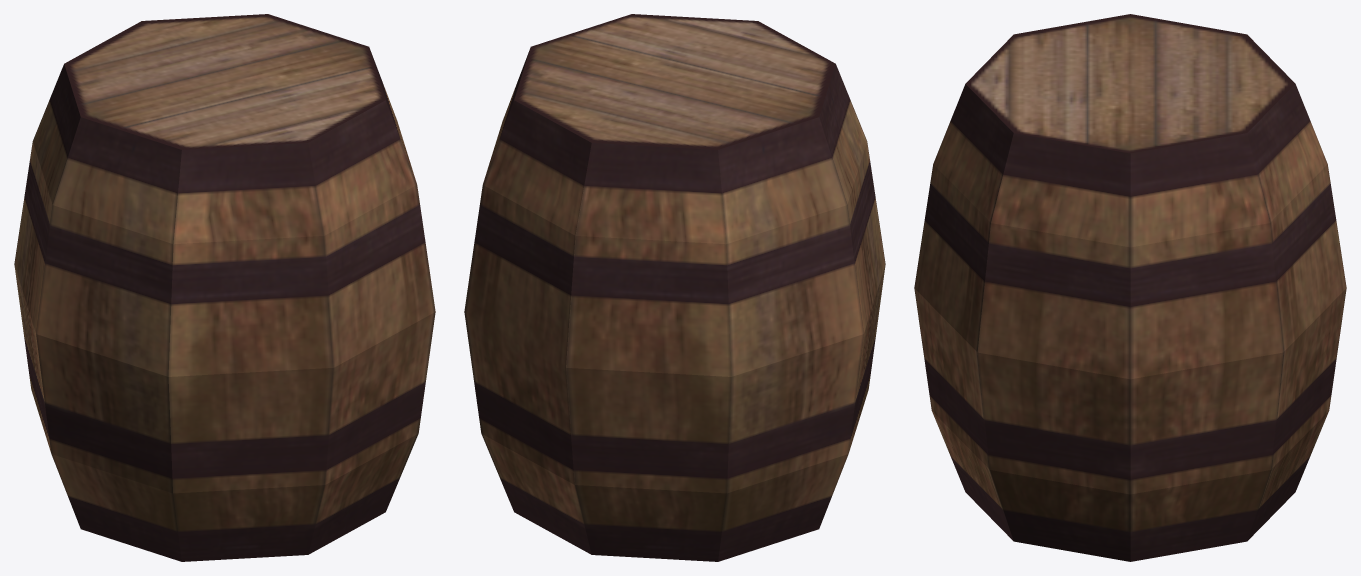
File: WoodBarrel.dae
3 renders of one model, left to right at view 1: azimuth 30°, elevation 25°; view 2: azimuth 150°, elevation 25°; view 3: azimuth 270°, elevation 25°, orthographic.
Parts seen in each view (by area): view 1: Empty_Mesh; view 2: Empty_Mesh; view 3: Empty_Mesh.
Boxes of the visible parts, box(x1,y1,x2,y2) form: Empty_Mesh: box(14, 14, 435, 561); Empty_Mesh: box(464, 14, 885, 561); Empty_Mesh: box(914, 14, 1346, 561).
Size of the model in its own units: 0.5756 by 0.6 by 0.5756.
